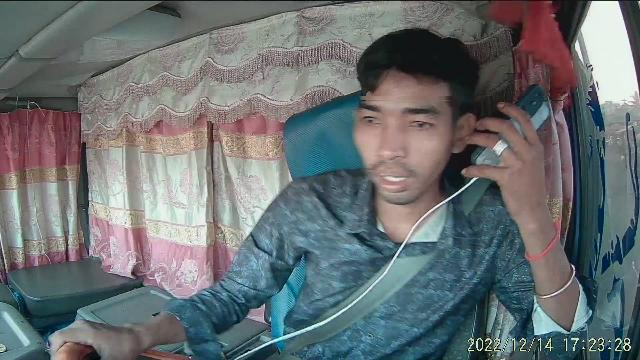PhoneUse: (470, 81, 554, 167)
SafeDriving: (401, 110, 442, 134), (354, 107, 389, 129)
Seatbelt: (294, 256, 436, 350)
